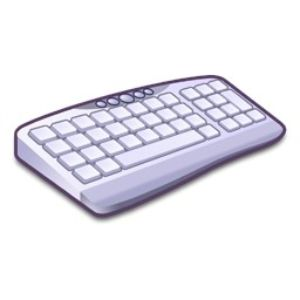keyboard: (10, 66, 288, 219)
